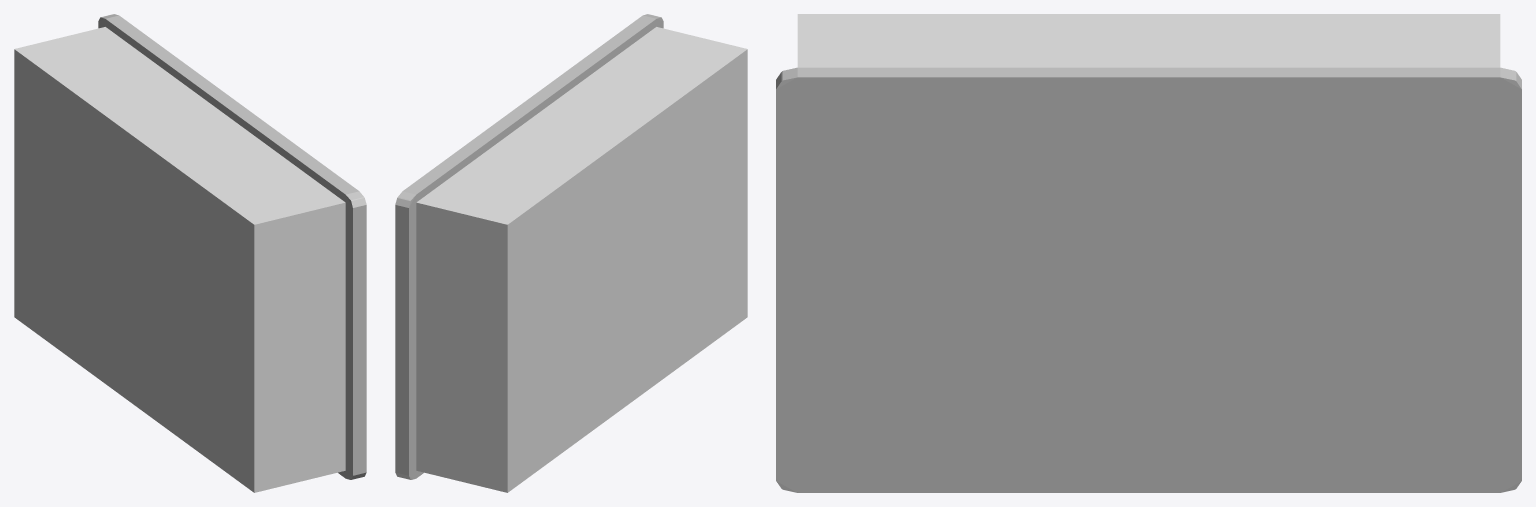
The model's file is Whiteboard (1).fbx.
3 views of the same model, side by side, from view 1: azimuth 30°, elevation 25°; view 2: azimuth 150°, elevation 25°; view 3: azimuth 270°, elevation 25° (orthographic). The views are drawn at different scales.
Visible parts, largest first — view 1: Cube.001, Cube; view 2: Cube.001, Cube; view 3: Cube, Cube.001.
Part boxes in pixels (x1,y1,x2,y2): Cube.001: [14, 27, 345, 492]; Cube: [98, 14, 366, 479]; Cube.001: [416, 27, 747, 492]; Cube: [395, 14, 663, 479]; Cube: [776, 67, 1521, 492]; Cube.001: [797, 14, 1500, 67].
Bounding box in the file's own units: 217 × 560 × 911.
Materials: 2 (2 with a texture image).
